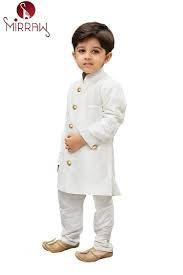Human: (52, 17, 131, 271)
